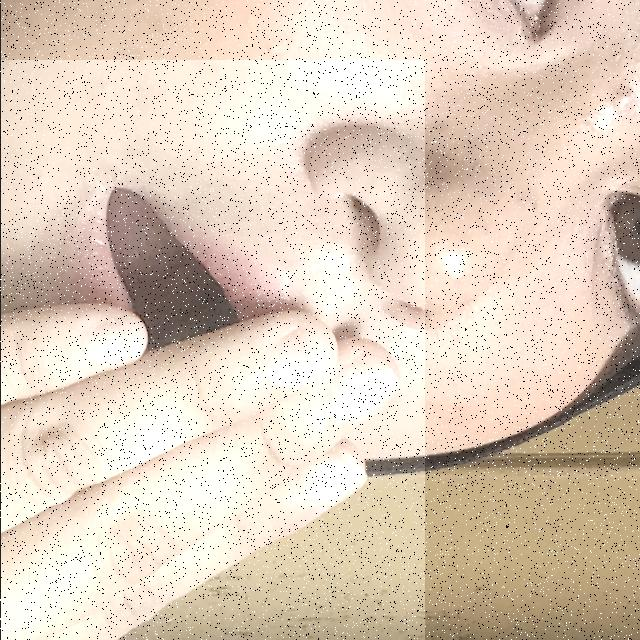ngantuk: (0, 60, 424, 640)
